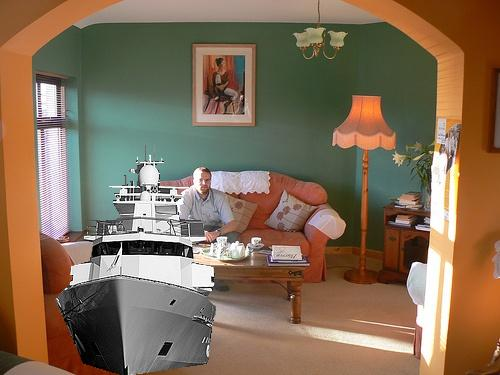tampered: (56, 146, 216, 375)
